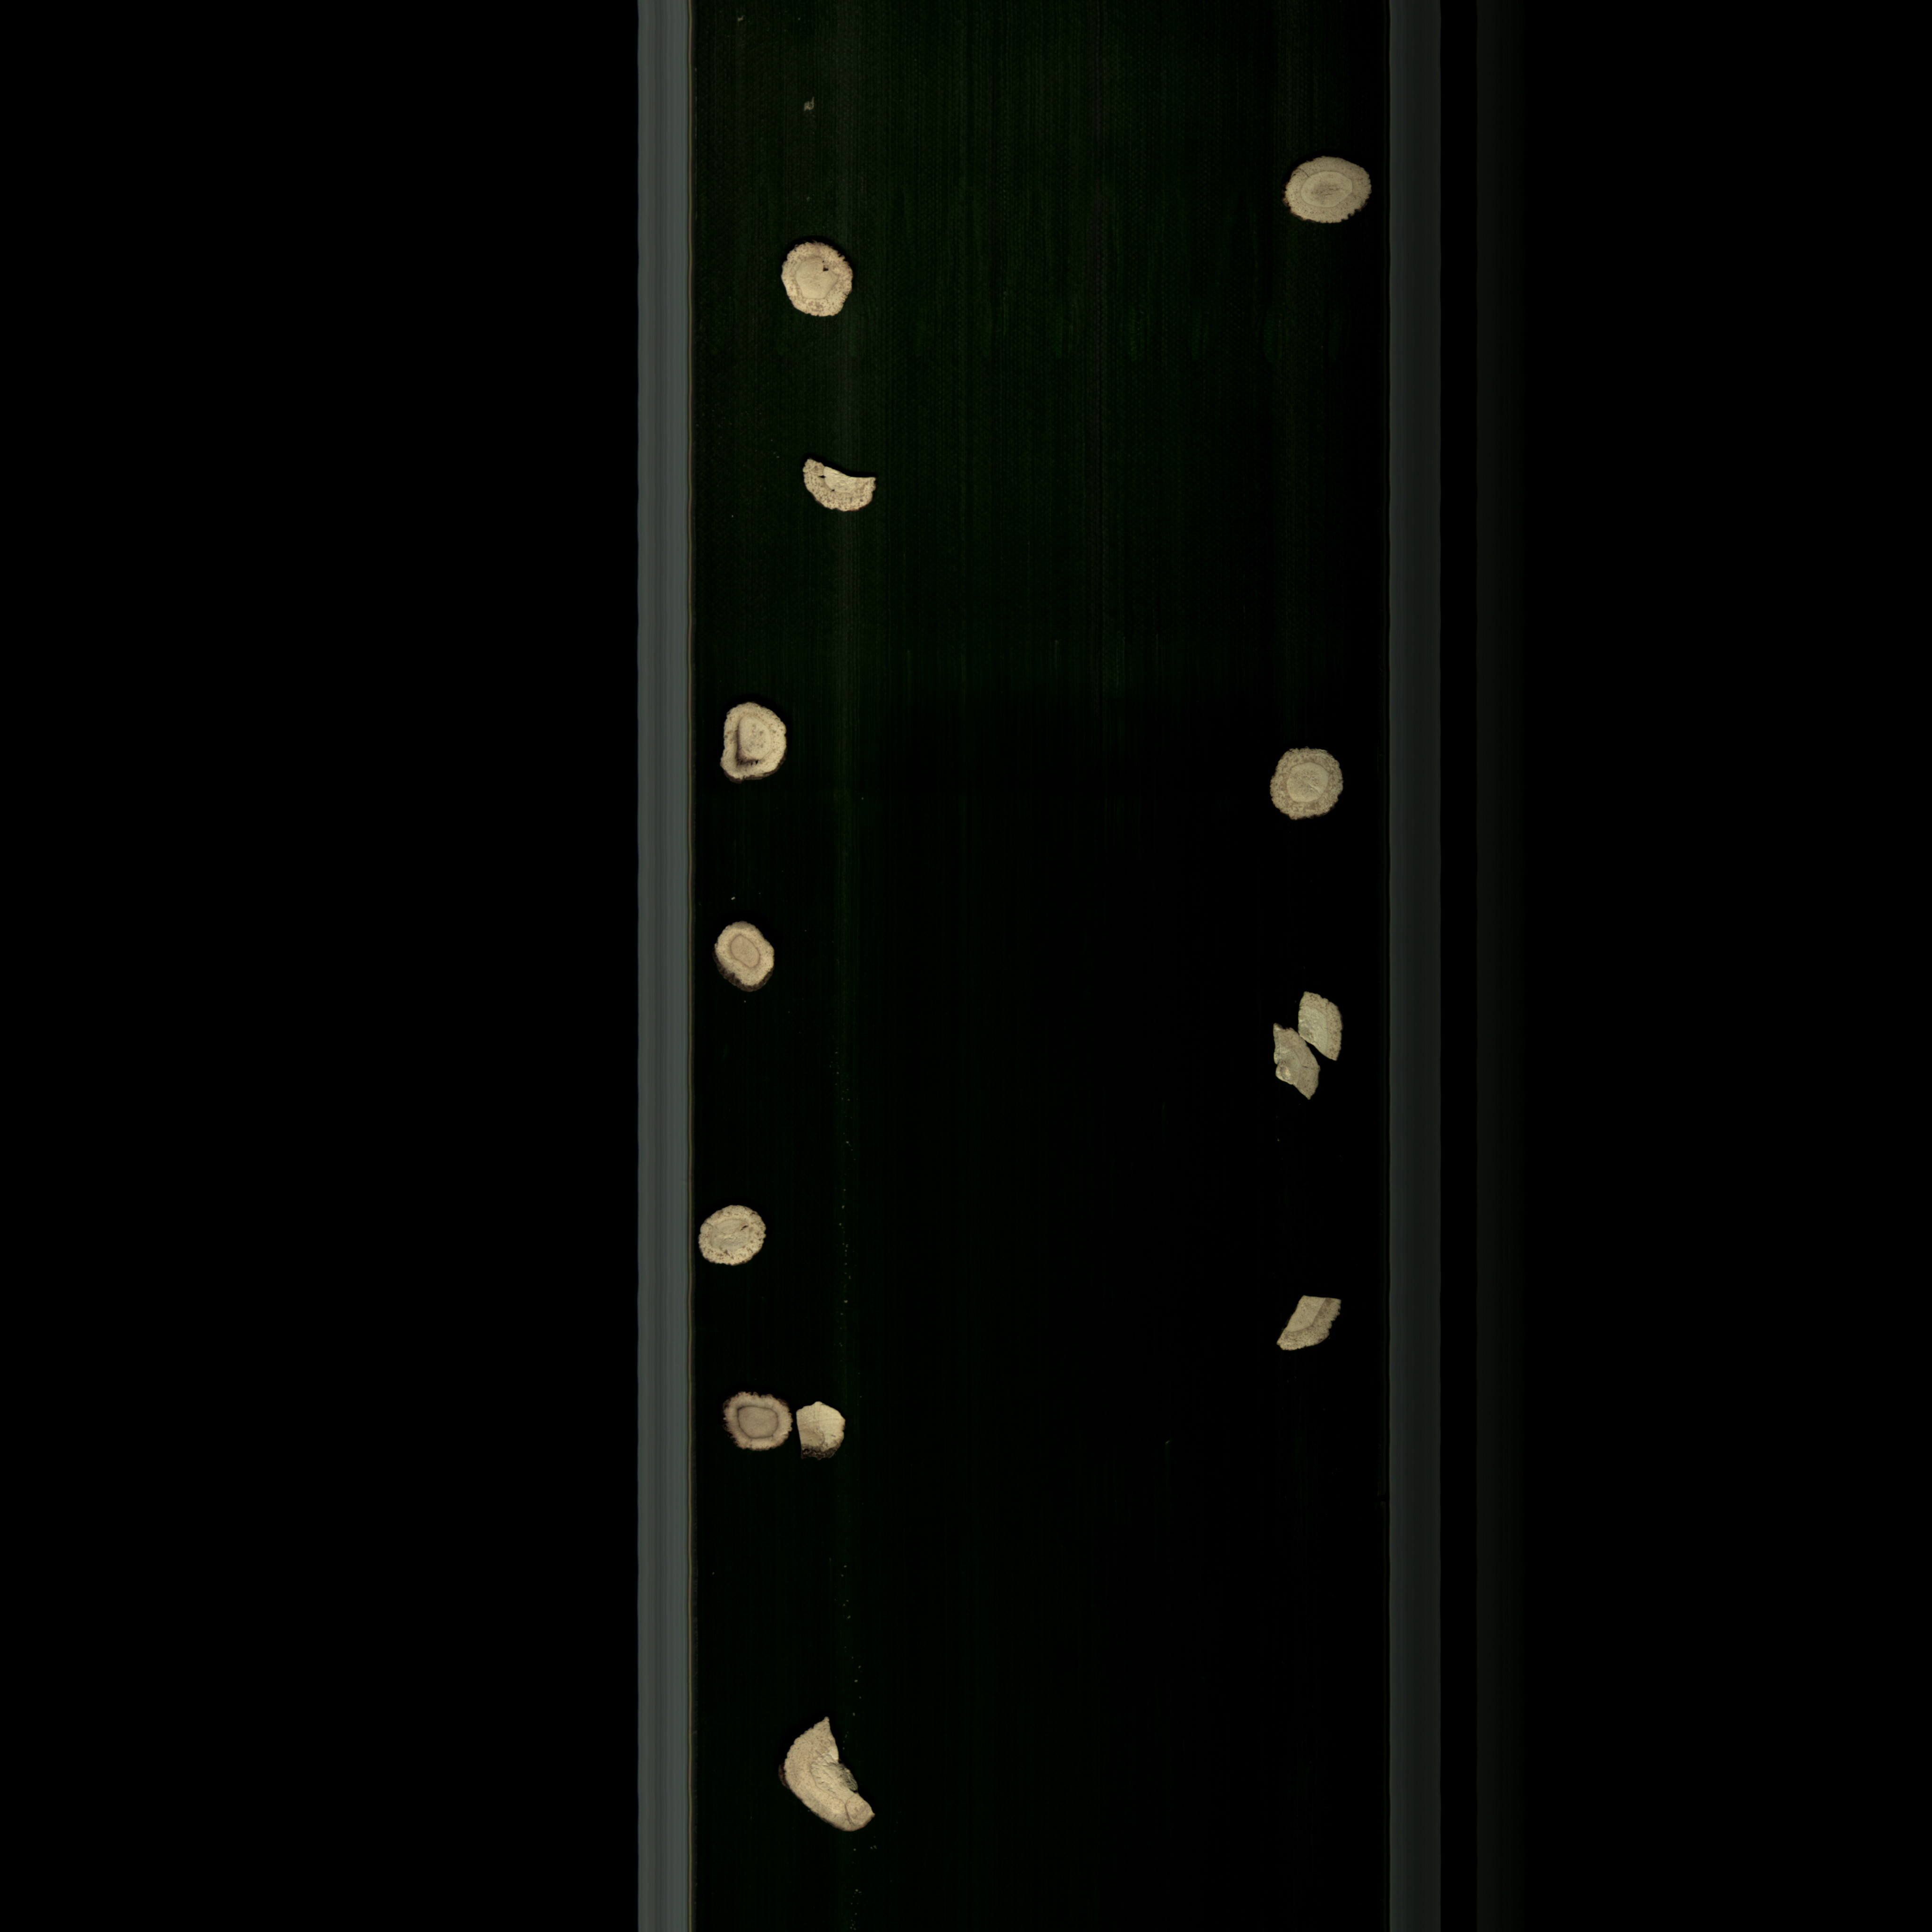debris: (759, 1704, 886, 1845), (1247, 1010, 1330, 1122), (1253, 1290, 1352, 1376), (787, 453, 888, 517), (784, 1396, 856, 1461), (1290, 984, 1343, 1070)
hole: (771, 235, 855, 331)
moldy: (702, 694, 807, 798), (702, 916, 807, 998), (718, 1382, 794, 1460)
